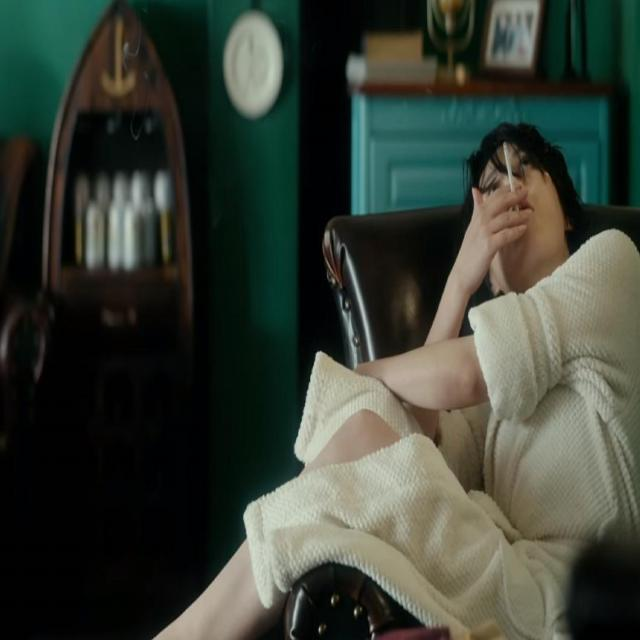cigarette: (502, 140, 520, 210)
